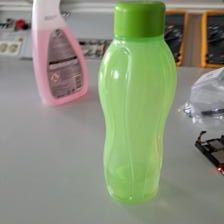bottle: (95, 0, 177, 203)
